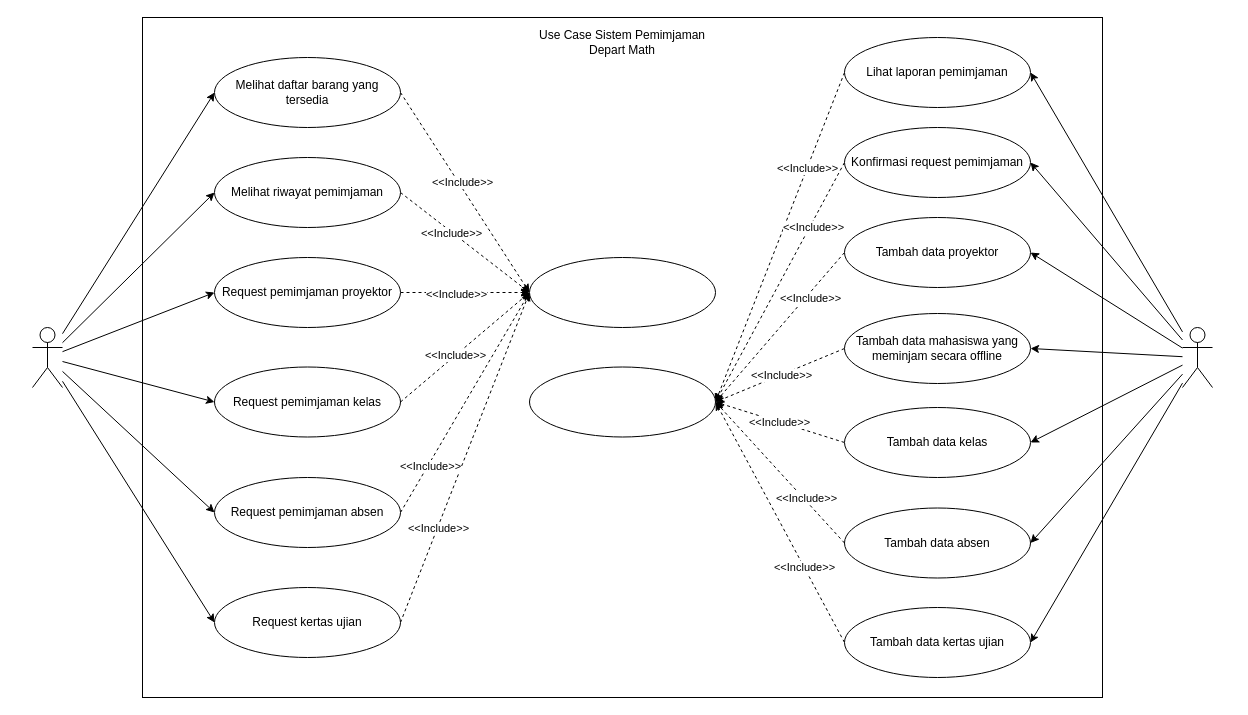
Image size: 1248x715. Some labels were removed from this diagram. The shapes that lost their labels are listed below. From the top down, each one's box as (x1, y1, x2, y2) in pixels, then its label:
(528, 256, 716, 328): Login Ke Sistem with web mobile / monitor depart
(32, 326, 62, 388): Mahasiswa
(1182, 326, 1212, 388): Admin / Staff
(528, 366, 716, 437): Login Sebagai admin
